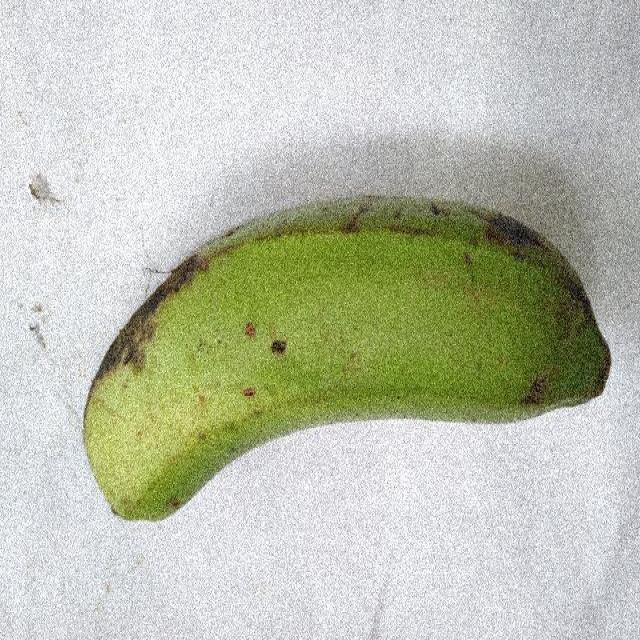Verde: (80, 192, 612, 522)
